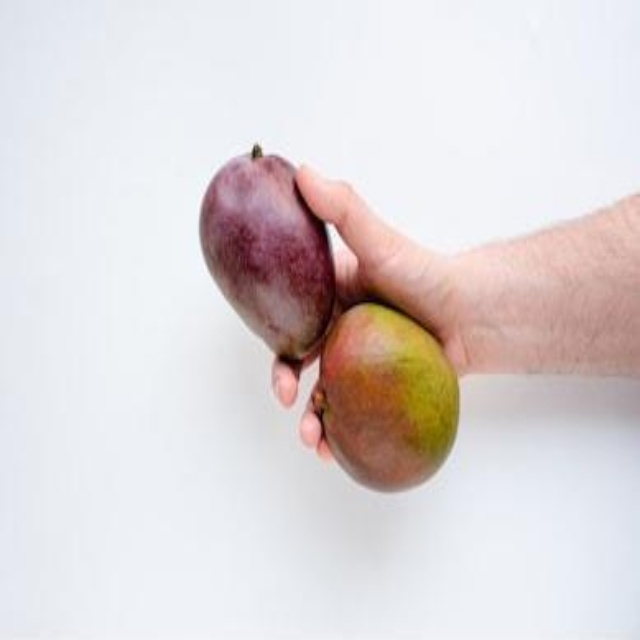mango: (312, 305, 460, 502), (197, 144, 333, 357)
